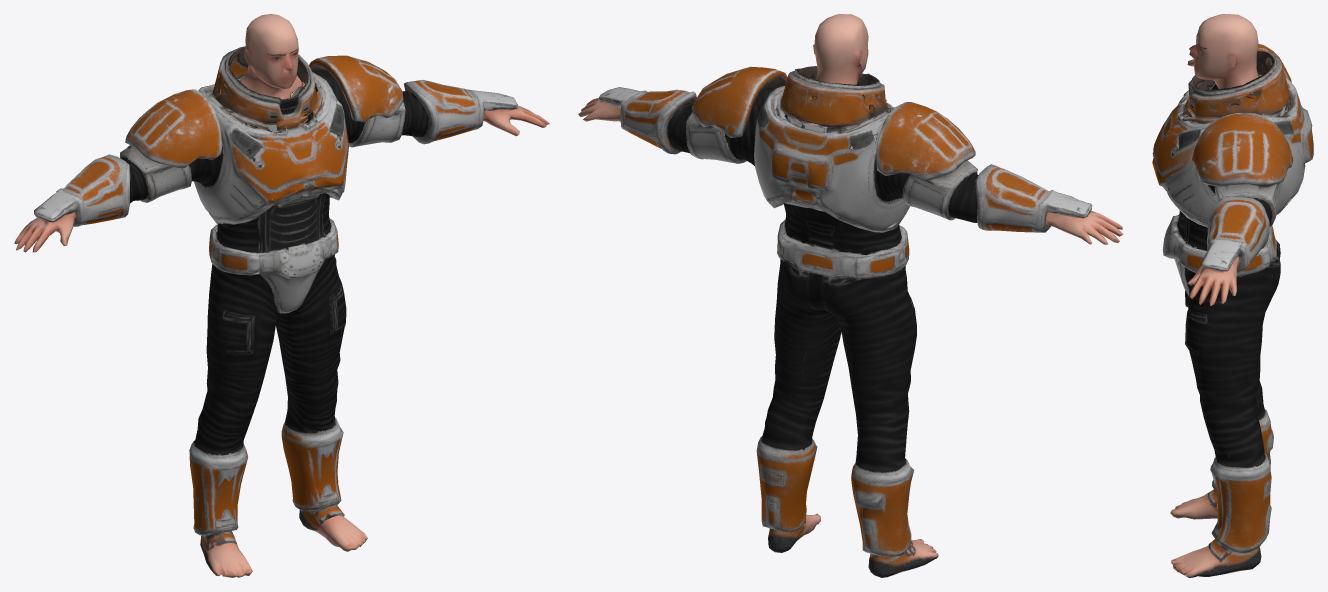
File: 3d_generated_mesh_one_piece_avatar_body_processed.glb
3 views of the same model, side by side, from view 1: azimuth 30°, elevation 25°; view 2: azimuth 150°, elevation 25°; view 3: azimuth 270°, elevation 25° (orthographic). The views are drawn at different scales.
Visible parts, largest first — view 1: RBX_BODY_one_piece_avatar_body; view 2: RBX_BODY_one_piece_avatar_body; view 3: RBX_BODY_one_piece_avatar_body.
Boxes of the visible parts, x1,y1,x2,y2 form: RBX_BODY_one_piece_avatar_body: [14, 14, 549, 577]; RBX_BODY_one_piece_avatar_body: [578, 14, 1123, 577]; RBX_BODY_one_piece_avatar_body: [1152, 14, 1313, 577].
Size of the model in its own units: 0.9961 by 0.9517 by 0.2645.
1 material, 1 textured.
